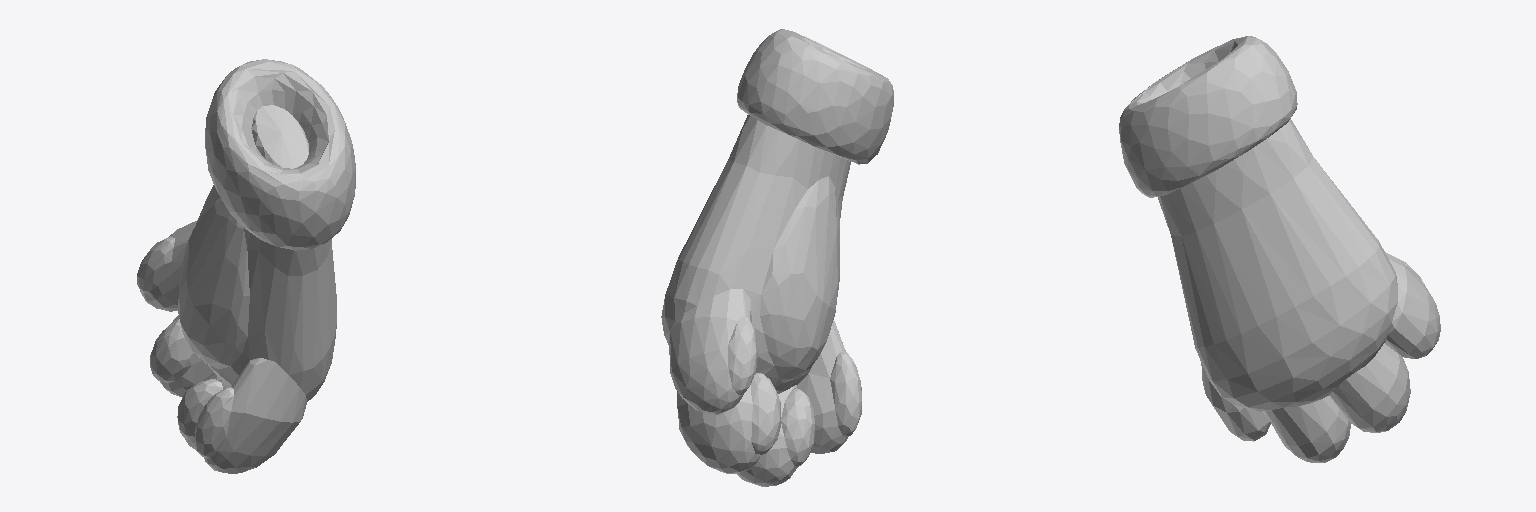
The model's file is glove.obj.
3 views of the same model, side by side, from view 1: azimuth 30°, elevation 25°; view 2: azimuth 150°, elevation 25°; view 3: azimuth 270°, elevation 25° (orthographic).
Visible parts, largest first — view 1: sphere65_sep10_default; view 2: sphere65_sep10_default; view 3: sphere65_sep10_default.
Boxes of the visible parts, x1,y1,x2,y2 form: sphere65_sep10_default: [137, 59, 355, 473]; sphere65_sep10_default: [661, 29, 893, 486]; sphere65_sep10_default: [1119, 36, 1440, 462].
Size of the model in its own units: 10.87 by 28.62 by 20.02.